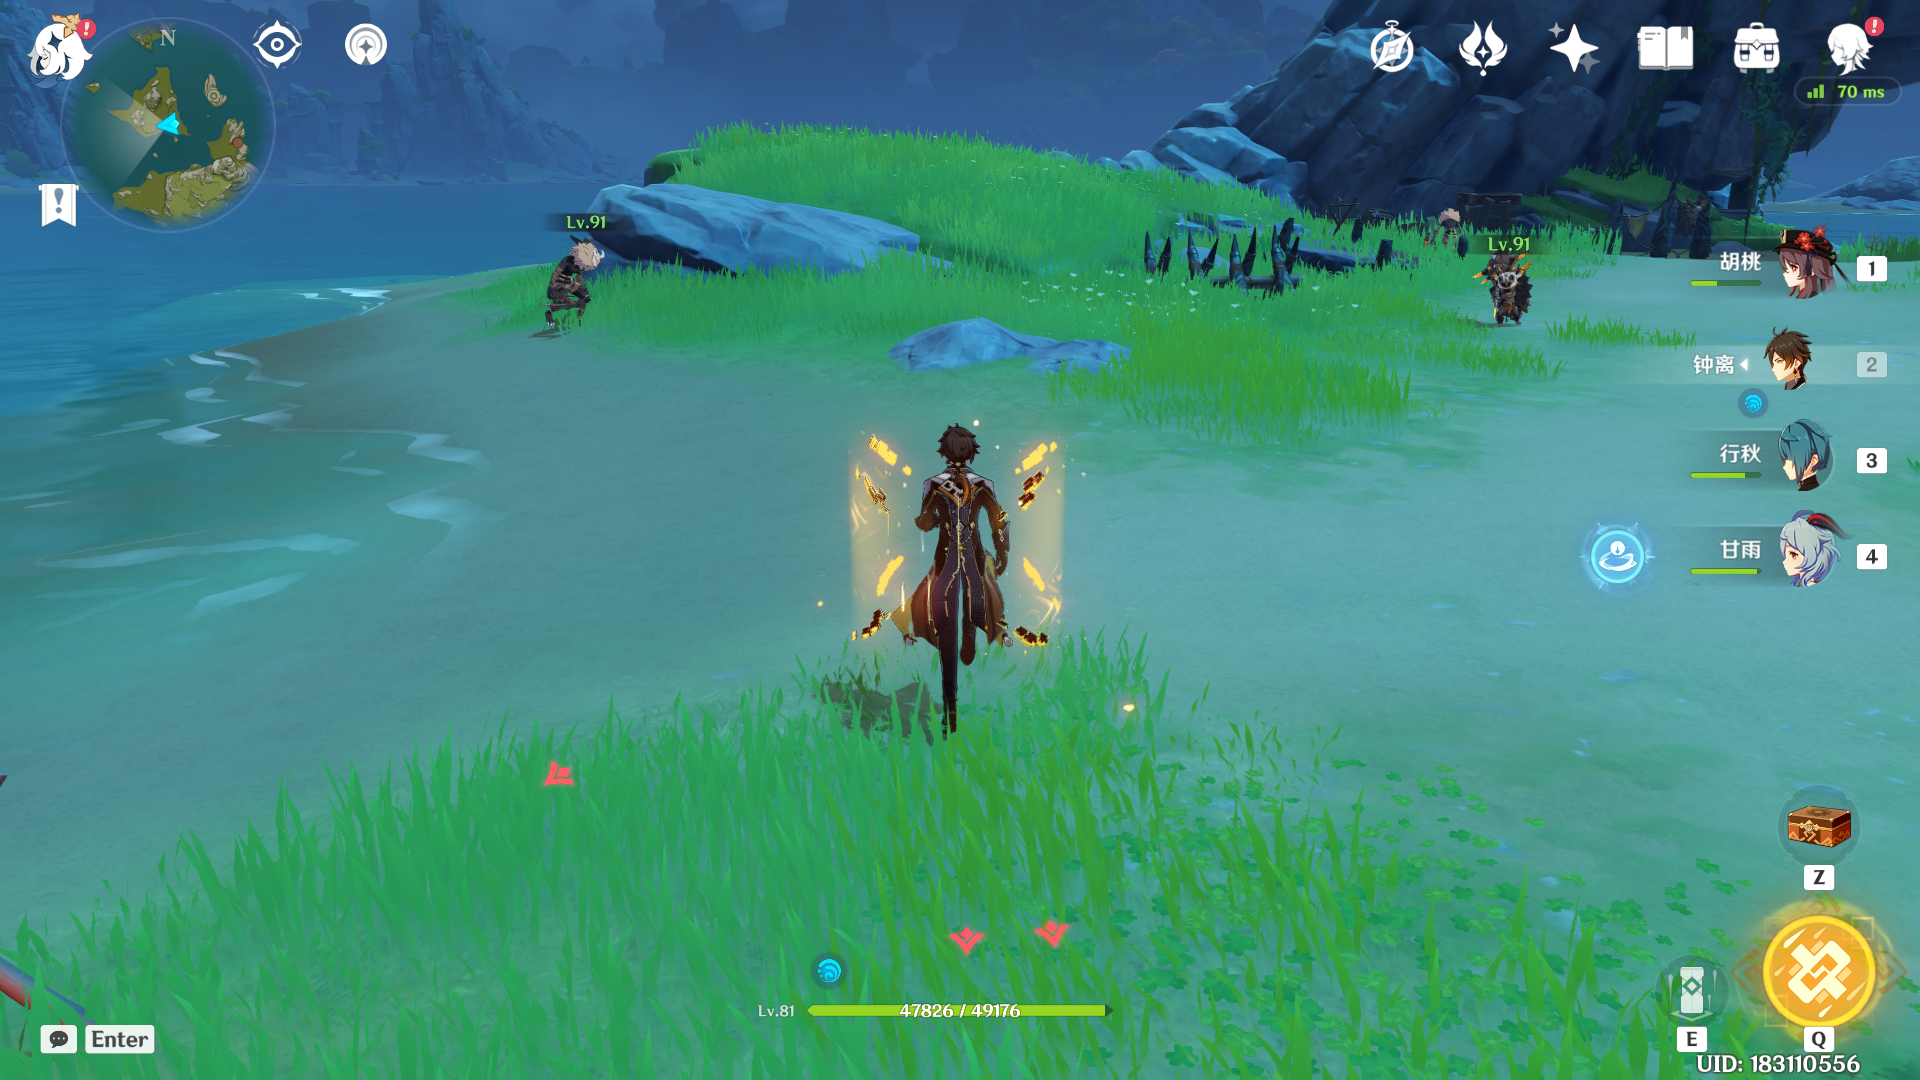character: (847, 389, 1063, 745)
hili: (545, 233, 618, 356), (1451, 248, 1547, 335)
